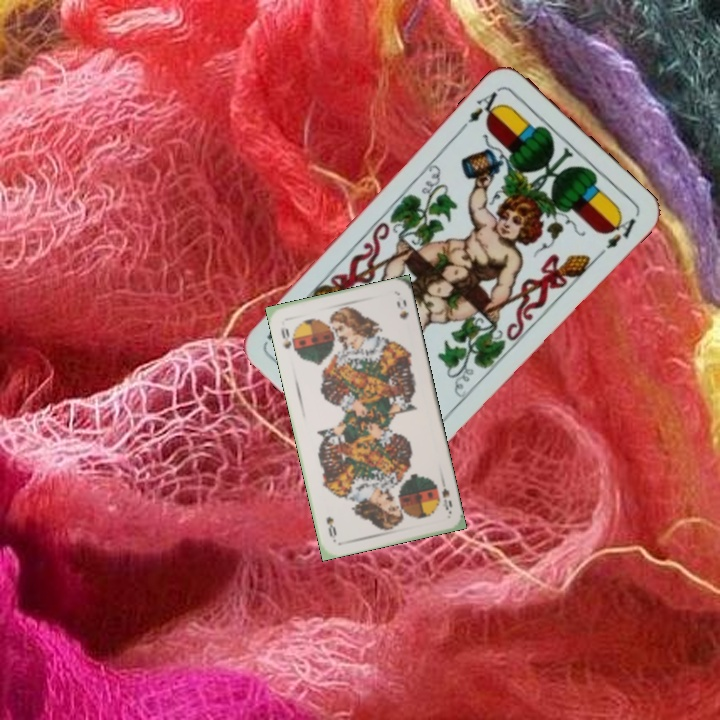EA: (458, 83, 505, 131)
SO: (438, 484, 455, 513), (277, 324, 294, 352)
